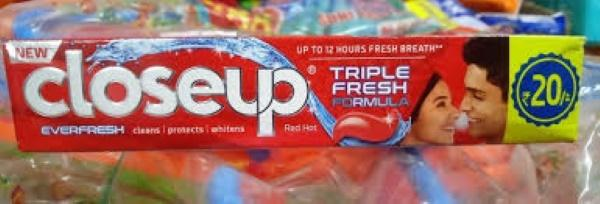CloseUp: (2, 22, 591, 159)
